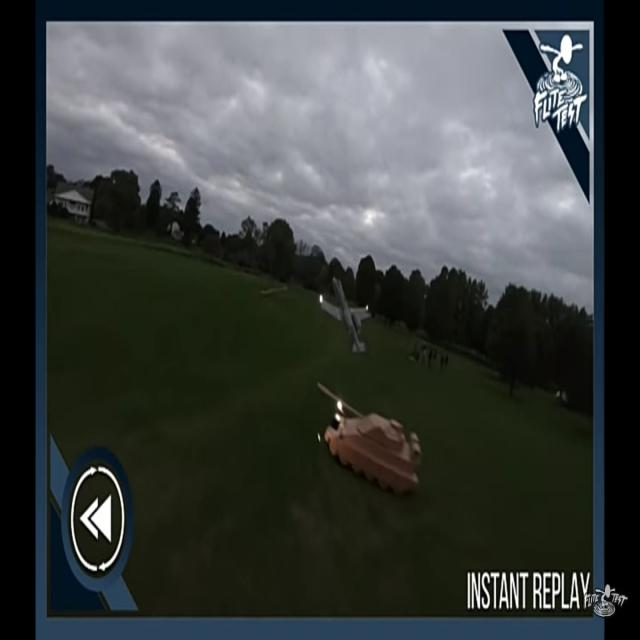iha: (319, 306, 371, 322)
